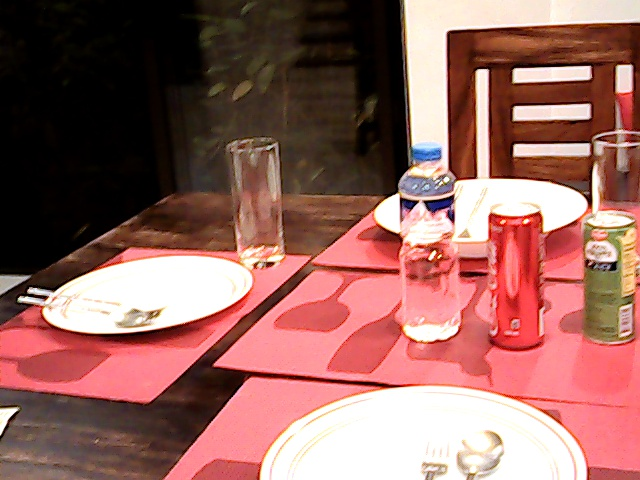Cola: (480, 197, 559, 357)
Pine Juice: (572, 203, 640, 357)
Summit Water: (394, 141, 471, 345)
